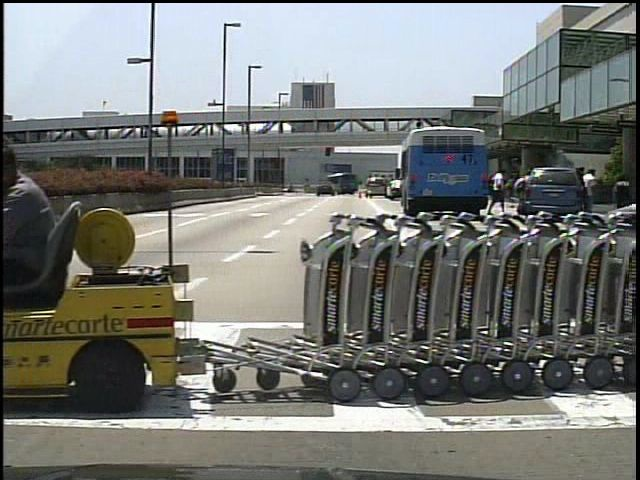person: (0, 139, 65, 298), (580, 165, 601, 214), (512, 167, 532, 218), (490, 166, 510, 217)
